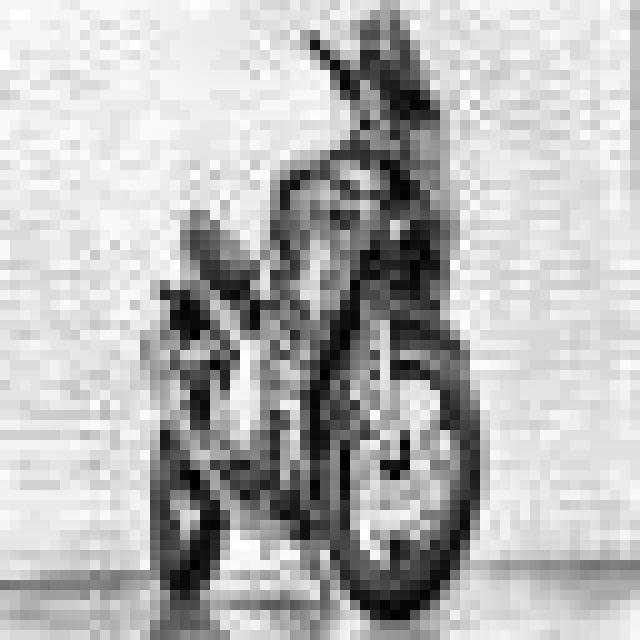mopeds: (102, 16, 517, 624)
